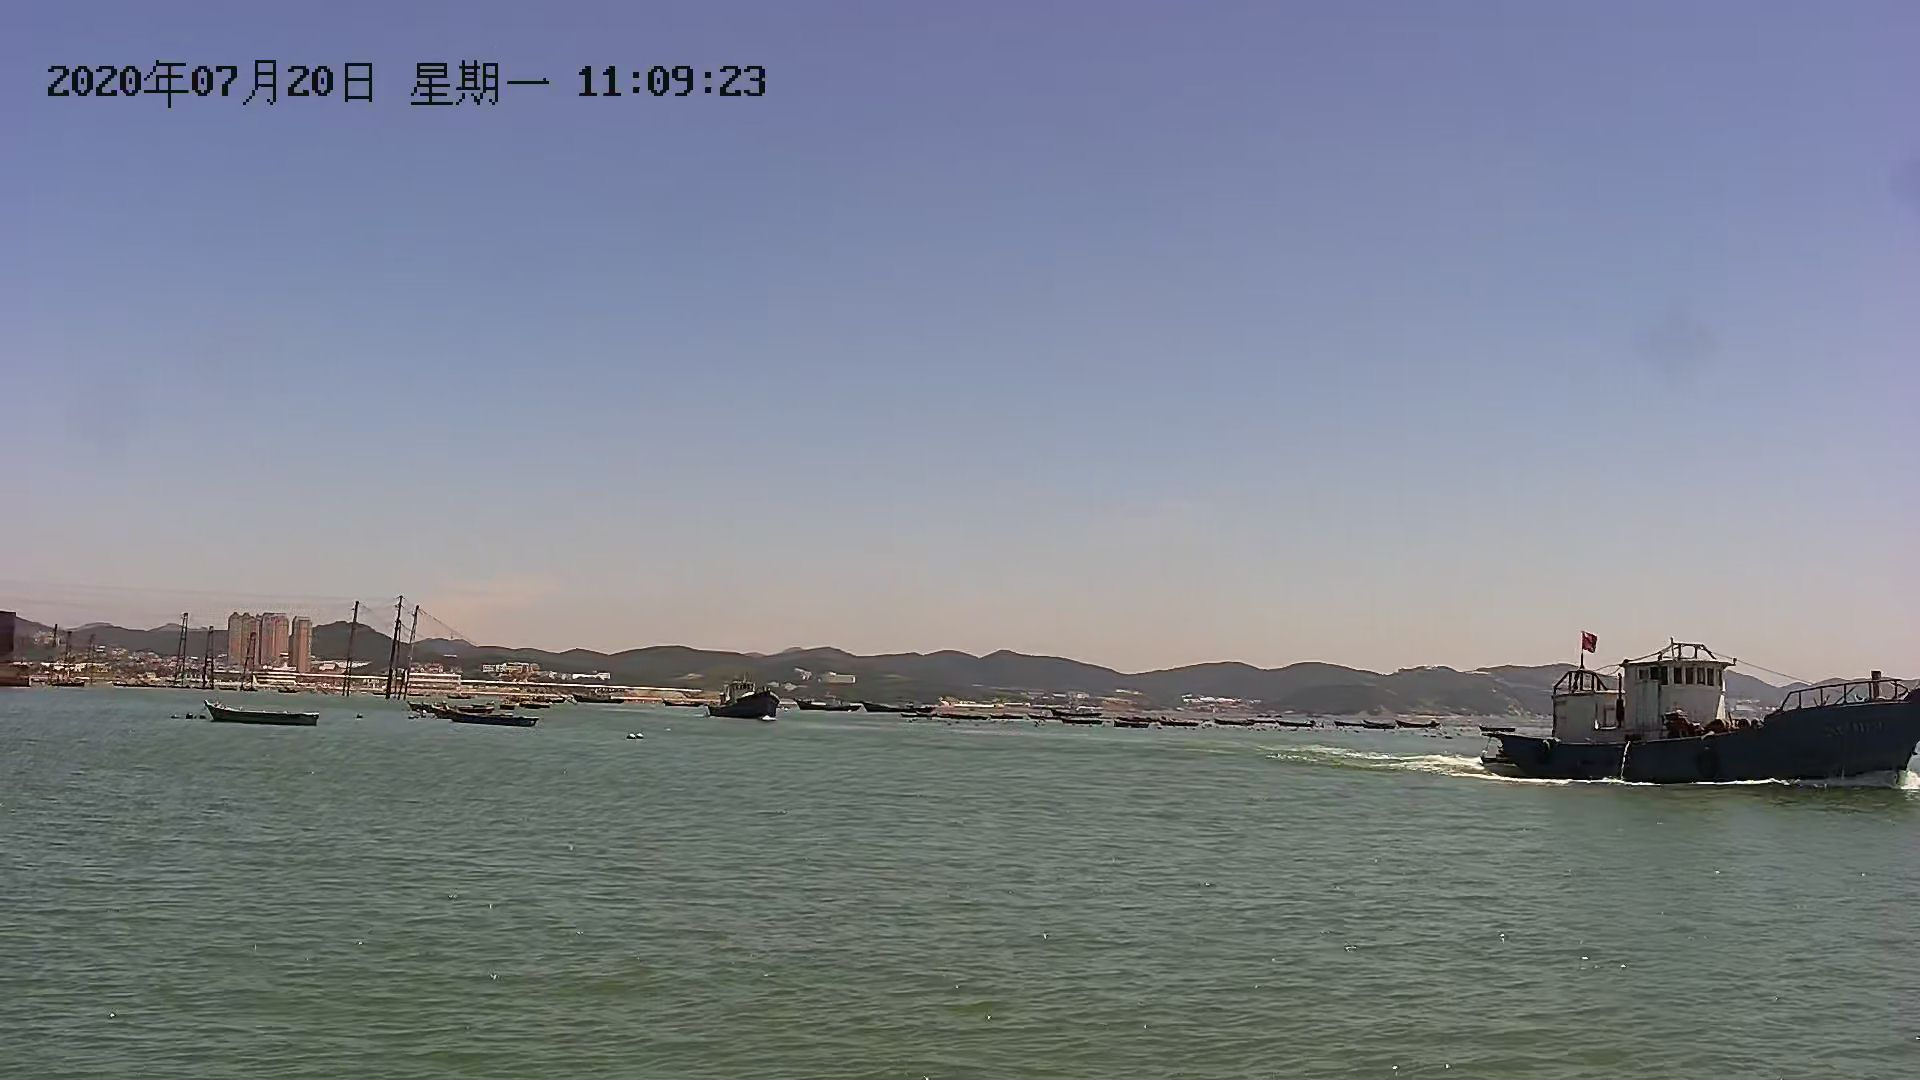boat: (202, 702, 327, 731), (440, 708, 534, 731)
mast: (388, 597, 406, 705), (343, 601, 359, 705), (174, 617, 185, 695)
ship: (1491, 642, 1920, 810), (704, 682, 793, 727)
